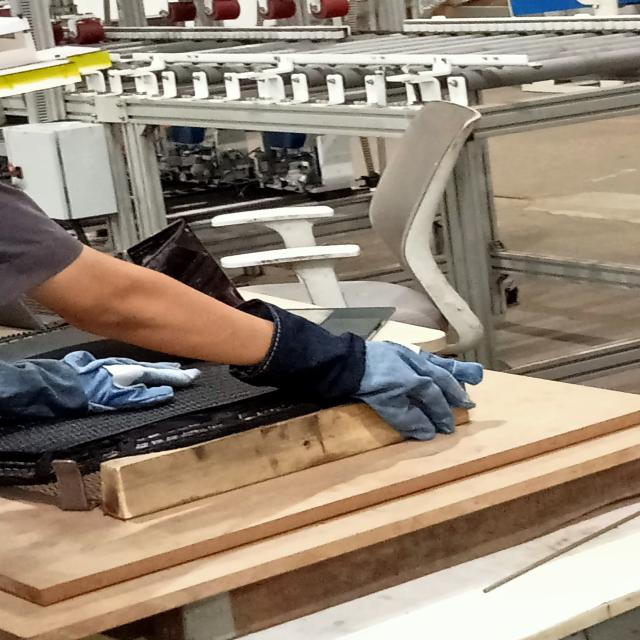Gloves-Detection: (236, 294, 474, 424), (0, 347, 190, 423)
